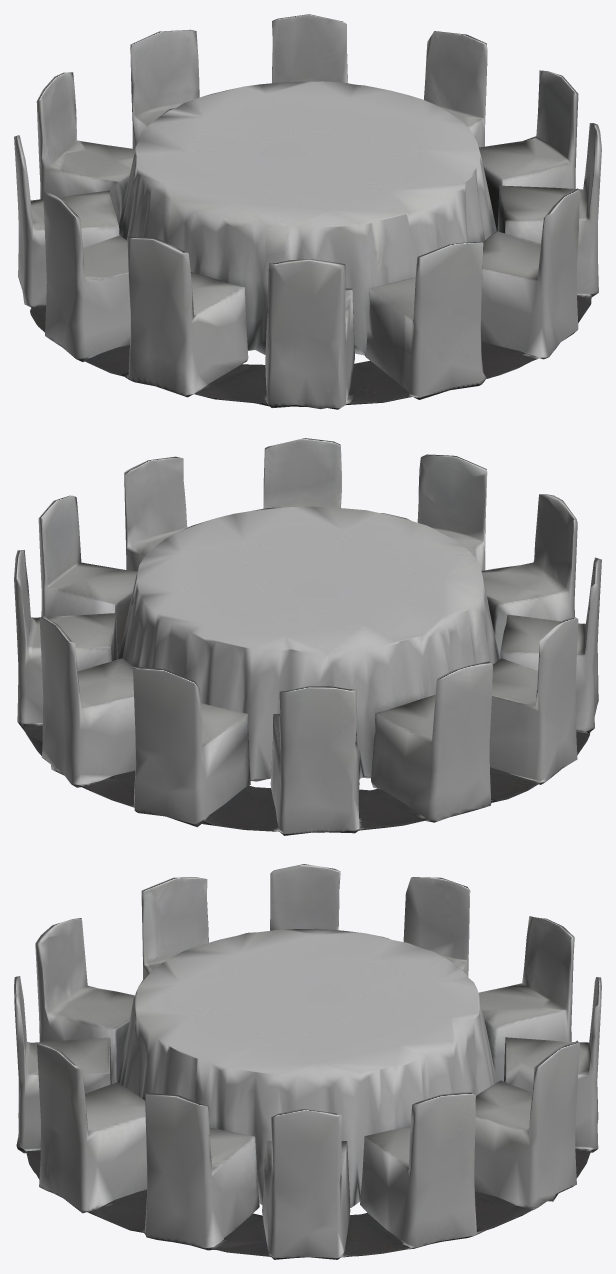
File: meja_kursi_putih.glb
3 renders of one model, top to bottom at view 1: azimuth 30°, elevation 25°; view 2: azimuth 150°, elevation 25°; view 3: azimuth 270°, elevation 25°, orthographic.
Visible parts, largest first — view 1: tripo_node_721a48cb-dd4e-4f86-9613-62b6da3a4254; view 2: tripo_node_721a48cb-dd4e-4f86-9613-62b6da3a4254; view 3: tripo_node_721a48cb-dd4e-4f86-9613-62b6da3a4254.
Part boxes in pixels (bbox=[...]): tripo_node_721a48cb-dd4e-4f86-9613-62b6da3a4254: bbox=[14, 14, 601, 409]; tripo_node_721a48cb-dd4e-4f86-9613-62b6da3a4254: bbox=[14, 438, 601, 835]; tripo_node_721a48cb-dd4e-4f86-9613-62b6da3a4254: bbox=[14, 864, 601, 1259].
Bounding box in the file's own units: 0.9973 × 0.289 × 1.
Materials: 1 (1 with a texture image).
